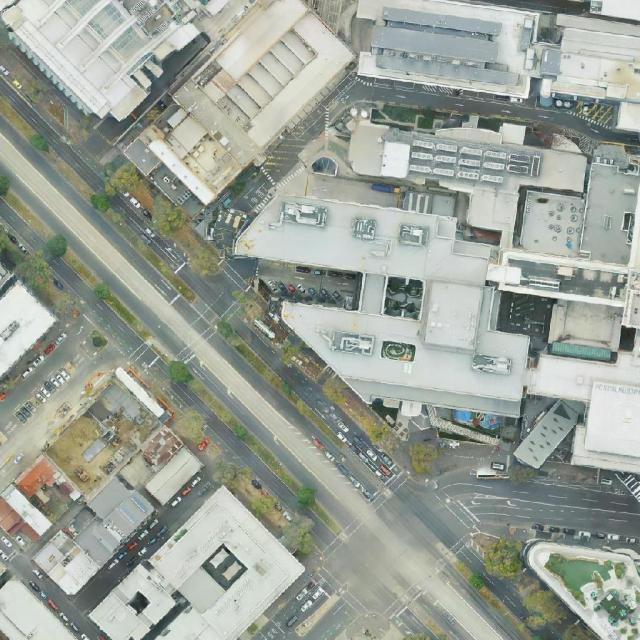building: (87, 483, 306, 640), (234, 187, 495, 288), (348, 0, 548, 102), (483, 247, 640, 364), (31, 472, 158, 599), (277, 133, 407, 251), (121, 136, 205, 222), (123, 423, 206, 506), (0, 484, 53, 552), (112, 366, 171, 424), (122, 122, 178, 178), (0, 483, 54, 537), (96, 381, 151, 432), (13, 454, 63, 503), (87, 476, 131, 521), (540, 48, 562, 76), (0, 262, 14, 295)
greenland: (97, 154, 189, 246), (140, 190, 229, 283), (42, 232, 73, 263), (168, 360, 192, 384), (298, 486, 318, 509), (93, 282, 112, 301), (0, 175, 10, 196)
metalled_road: (347, 65, 640, 155), (67, 472, 213, 618), (438, 472, 640, 552), (225, 99, 339, 216), (58, 139, 109, 192), (163, 470, 216, 519), (299, 598, 359, 640), (216, 259, 251, 293), (49, 129, 80, 166)
